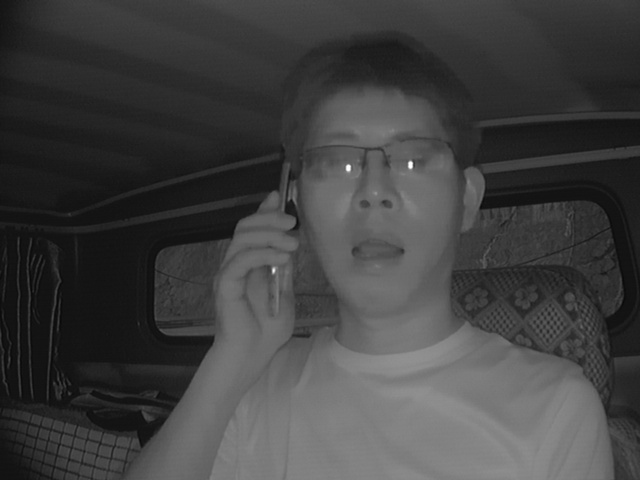hand: (202, 198, 294, 351)
